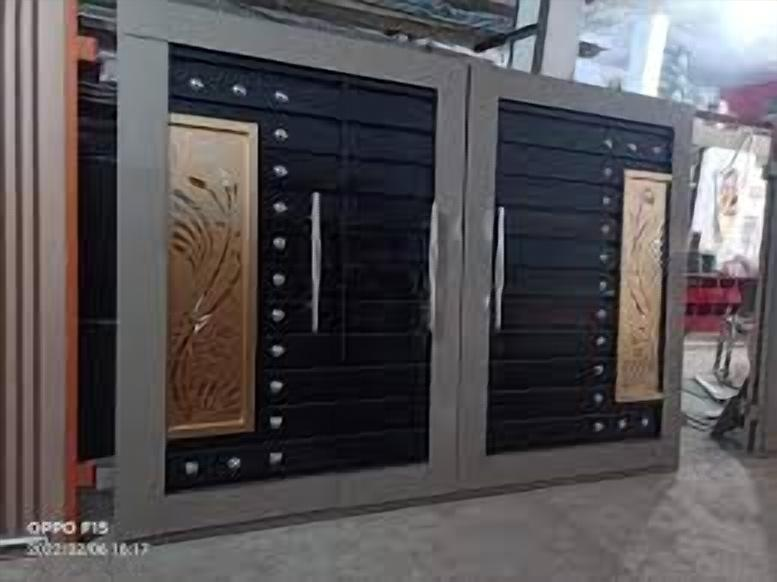Gate: (111, 0, 695, 546)
